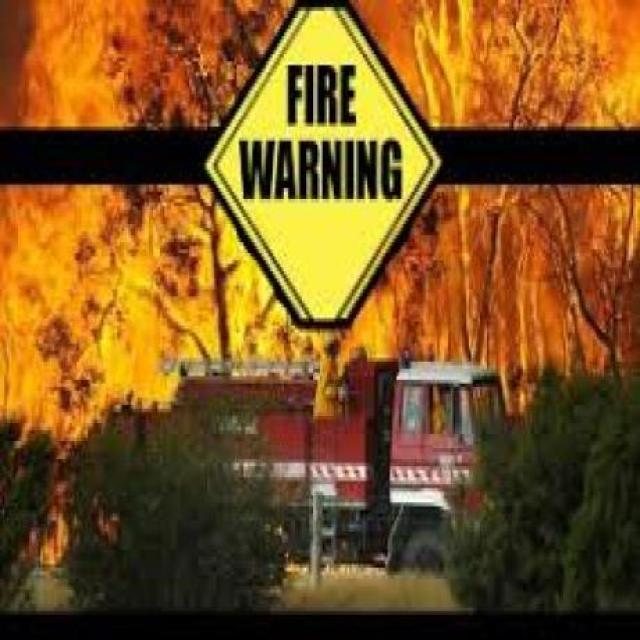Fire: (0, 186, 234, 394), (427, 194, 640, 356), (398, 0, 640, 124), (0, 0, 252, 115)
